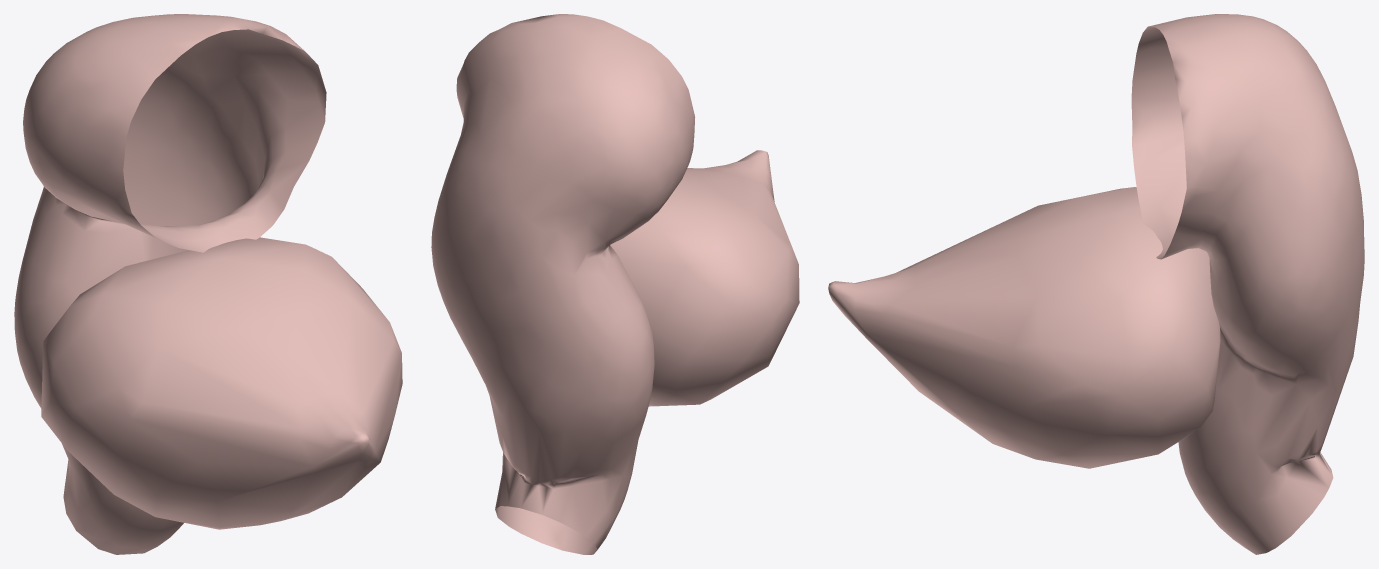
File: lod1-leg-left-organ.glb
The picture shows the model from 3 angles, left to right: view 1: azimuth 30°, elevation 25°; view 2: azimuth 150°, elevation 25°; view 3: azimuth 270°, elevation 25°; orthographic projection. The views are drawn at different scales.
Visible parts, largest first — view 1: part::Urinary bladder, part::Sigmoid colon; view 2: part::Sigmoid colon, part::Urinary bladder; view 3: part::Sigmoid colon, part::Urinary bladder.
Boxes of the visible parts, left/top/right/bottom form: part::Urinary bladder: left=41, top=237, right=402, bottom=529; part::Sigmoid colon: left=14, top=14, right=326, bottom=554; part::Sigmoid colon: left=431, top=14, right=695, bottom=554; part::Urinary bladder: left=610, top=150, right=799, bottom=406; part::Sigmoid colon: left=1131, top=14, right=1364, bottom=554; part::Urinary bladder: left=828, top=187, right=1220, bottom=468.
Bounding box in the file's own units: 0.0759 × 0.1226 × 0.1137.
